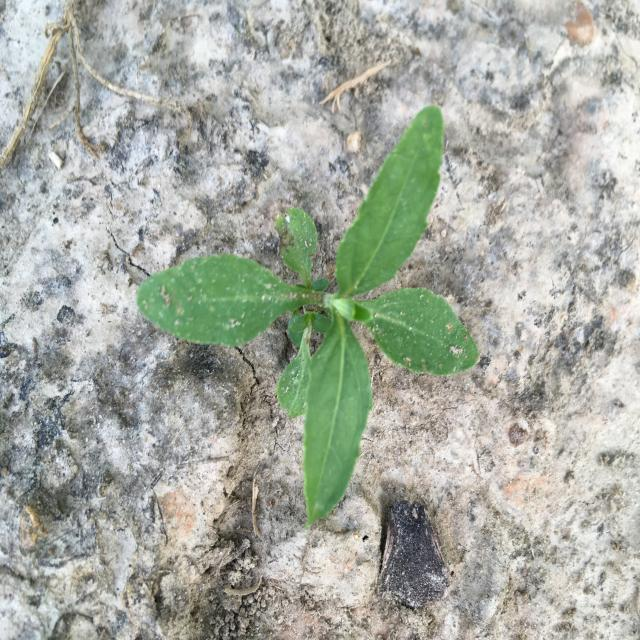Eclipta: (136, 105, 479, 531)
